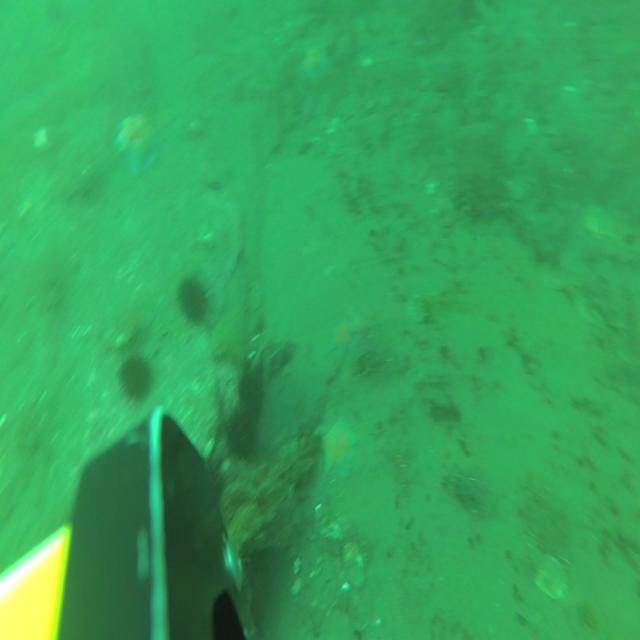echinus: (176, 275, 212, 325), (119, 352, 154, 403), (228, 410, 257, 461), (239, 370, 266, 417)
scallop: (536, 552, 568, 604)
starfish: (116, 114, 160, 178), (323, 415, 358, 483), (298, 45, 331, 91), (328, 318, 354, 364)
